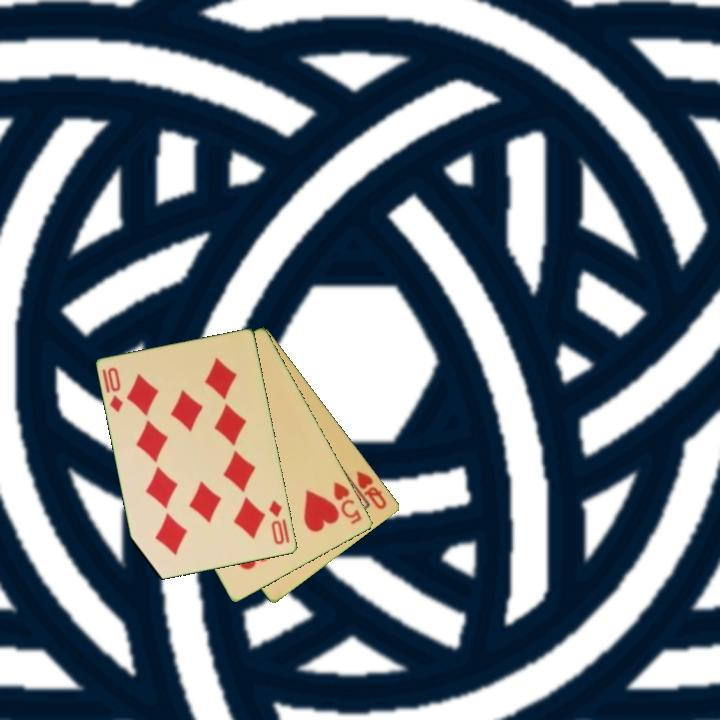10d: (265, 497, 293, 548), (99, 364, 126, 415)
5h: (330, 478, 365, 527)
Qh: (353, 467, 390, 513)
